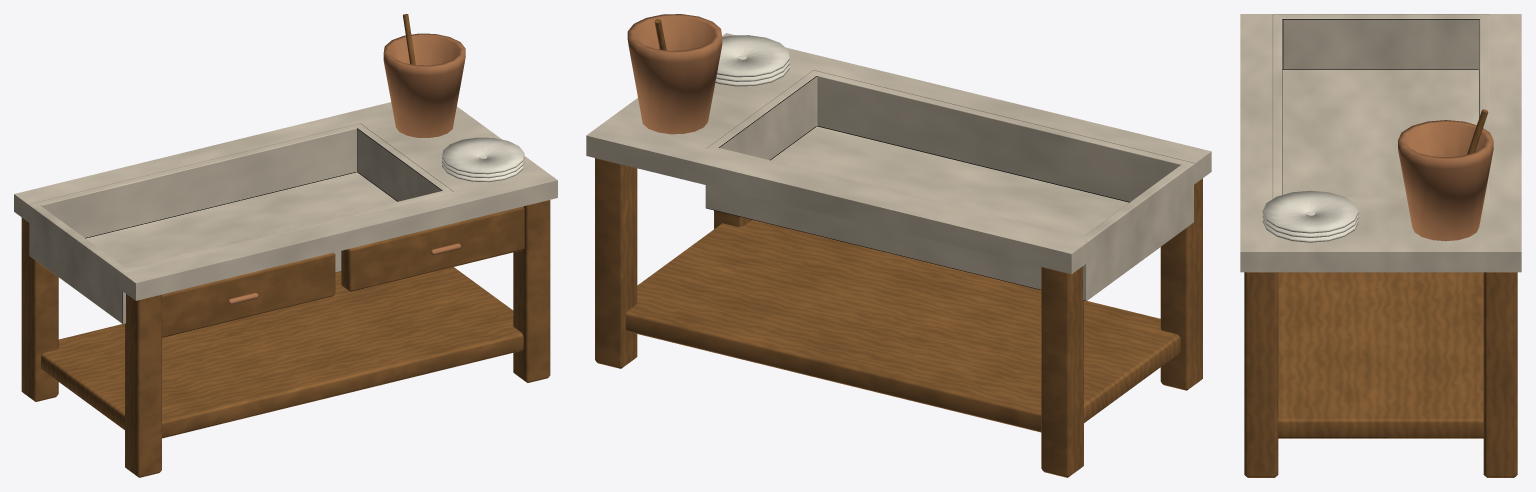
Rendered from Furn_KitchenSinkDeep.fbx.
3 views of the same model, side by side, from view 1: azimuth 30°, elevation 25°; view 2: azimuth 150°, elevation 25°; view 3: azimuth 270°, elevation 25° (orthographic). The views are drawn at different scales.
Visible parts, largest first — view 1: Furn_KitchenSinkDeep_Mesh; view 2: Furn_KitchenSinkDeep_Mesh; view 3: Furn_KitchenSinkDeep_Mesh.
Boxes of the visible parts, x1=… form: Furn_KitchenSinkDeep_Mesh: x1=14, y1=14, x2=557, y2=477; Furn_KitchenSinkDeep_Mesh: x1=586, y1=14, x2=1211, y2=477; Furn_KitchenSinkDeep_Mesh: x1=1240, y1=14, x2=1521, y2=477.
Size of the model in its own units: 2 by 1.35 by 1.
